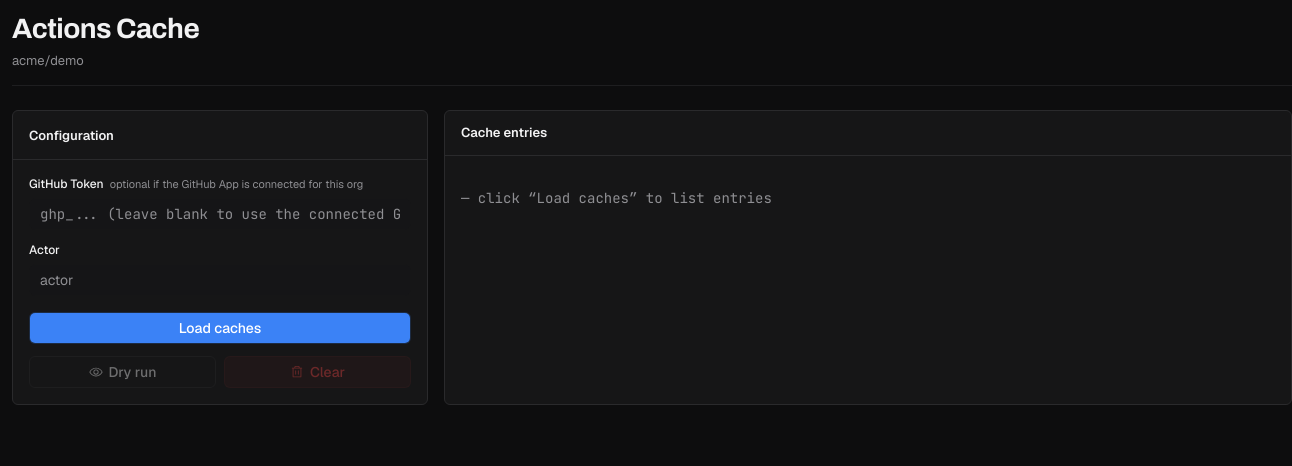
it: CachePage › disarms the confirm state if Load caches is clicked before confirming
Type "me@example.com" into the field with placeholder "actor". click: (220, 280)
box: [29,264,411,296]
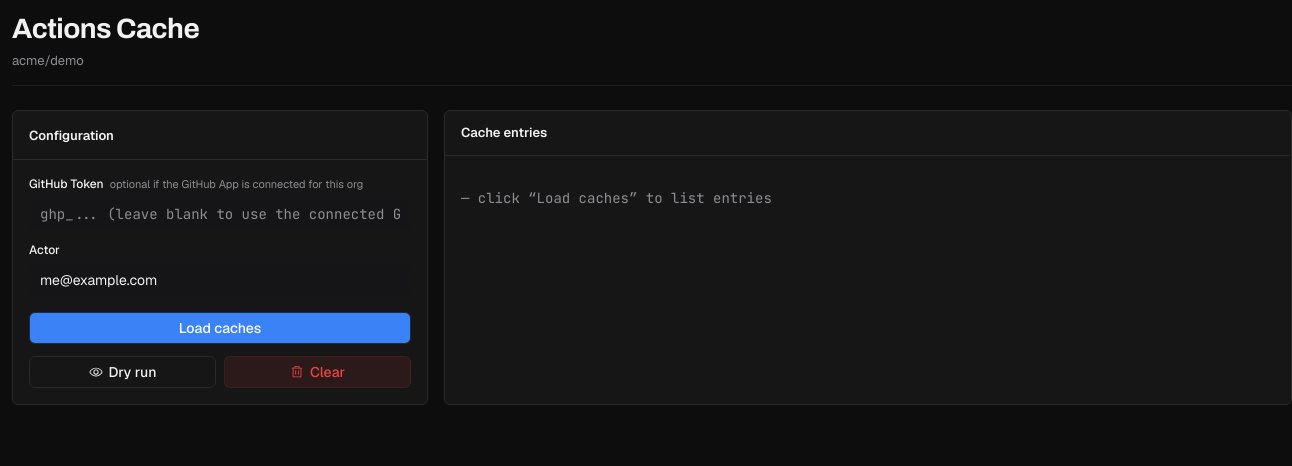
Now the button "Clear" is enabled
Click the button "Clear". click: (318, 372)
box: [224,356,411,388]
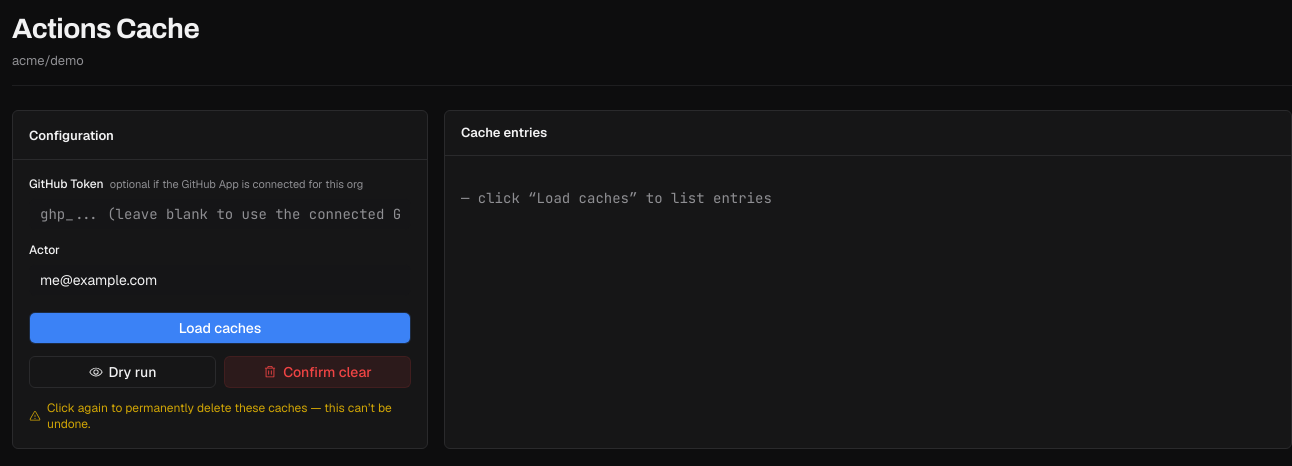
Now the button "Confirm clear" is shown, box [224,356,411,388]
Click the button "Load caches". click: (220, 328)
box: [29,312,411,344]
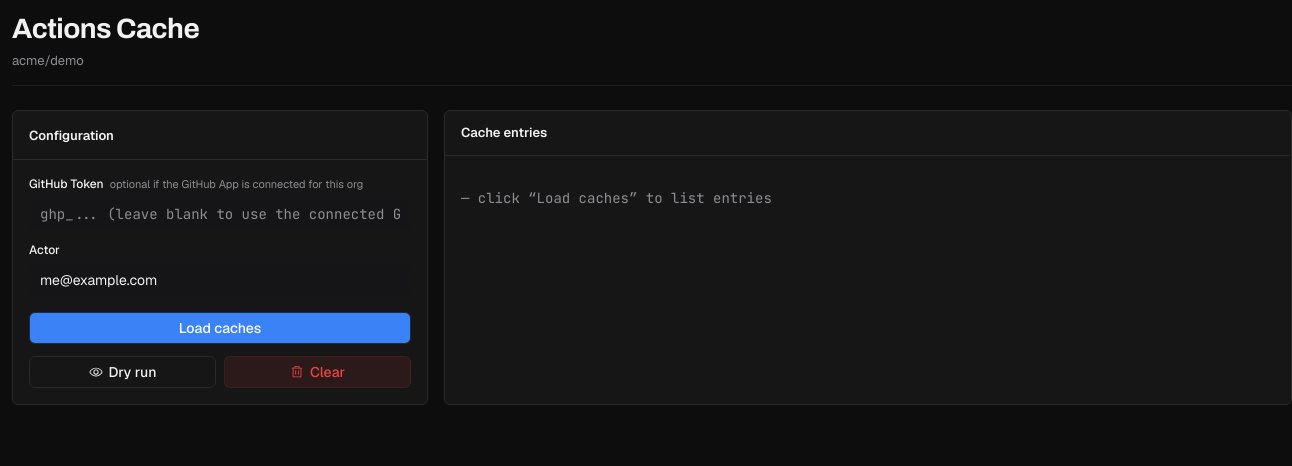
Now the button "Confirm clear" is gone
